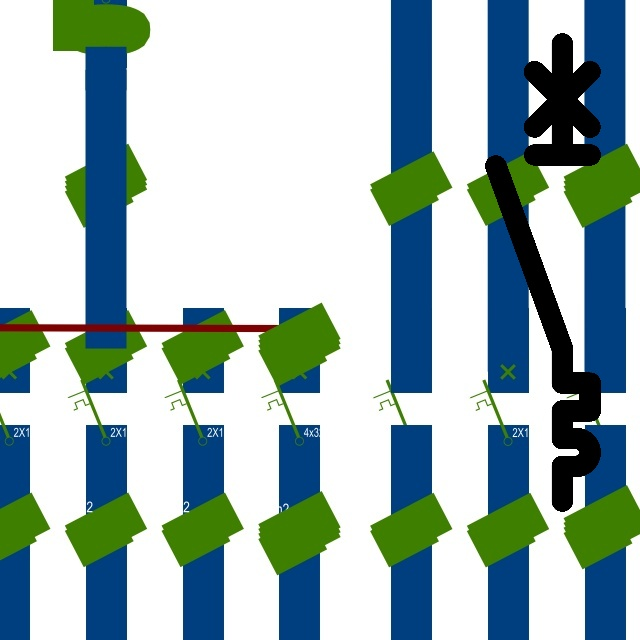interruptor_termomagnetico: (484, 32, 602, 513)
